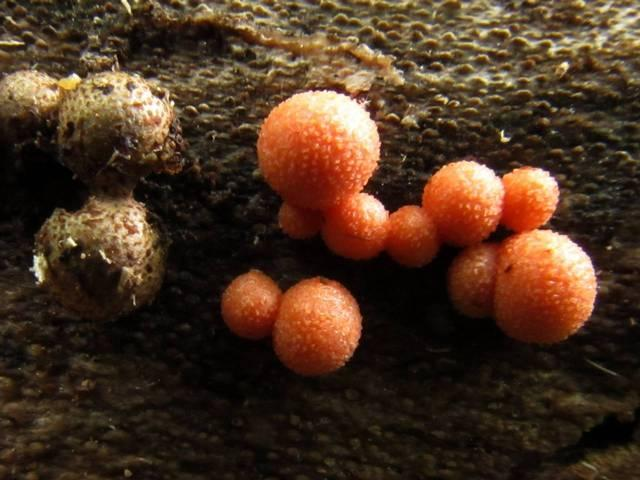Non-edible Mushroom: (254, 86, 598, 345), (29, 68, 186, 321), (30, 192, 169, 321), (53, 69, 185, 190), (255, 87, 381, 210), (492, 227, 598, 344), (271, 274, 363, 376), (421, 158, 505, 244), (0, 67, 61, 157), (219, 267, 281, 339), (499, 164, 560, 231)
